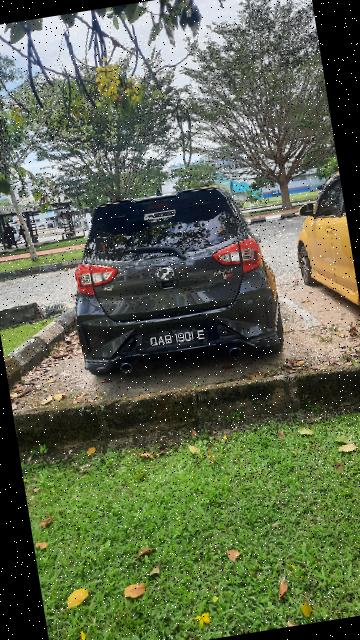License_Plate: (143, 319, 223, 354)
car: (53, 170, 293, 388)
